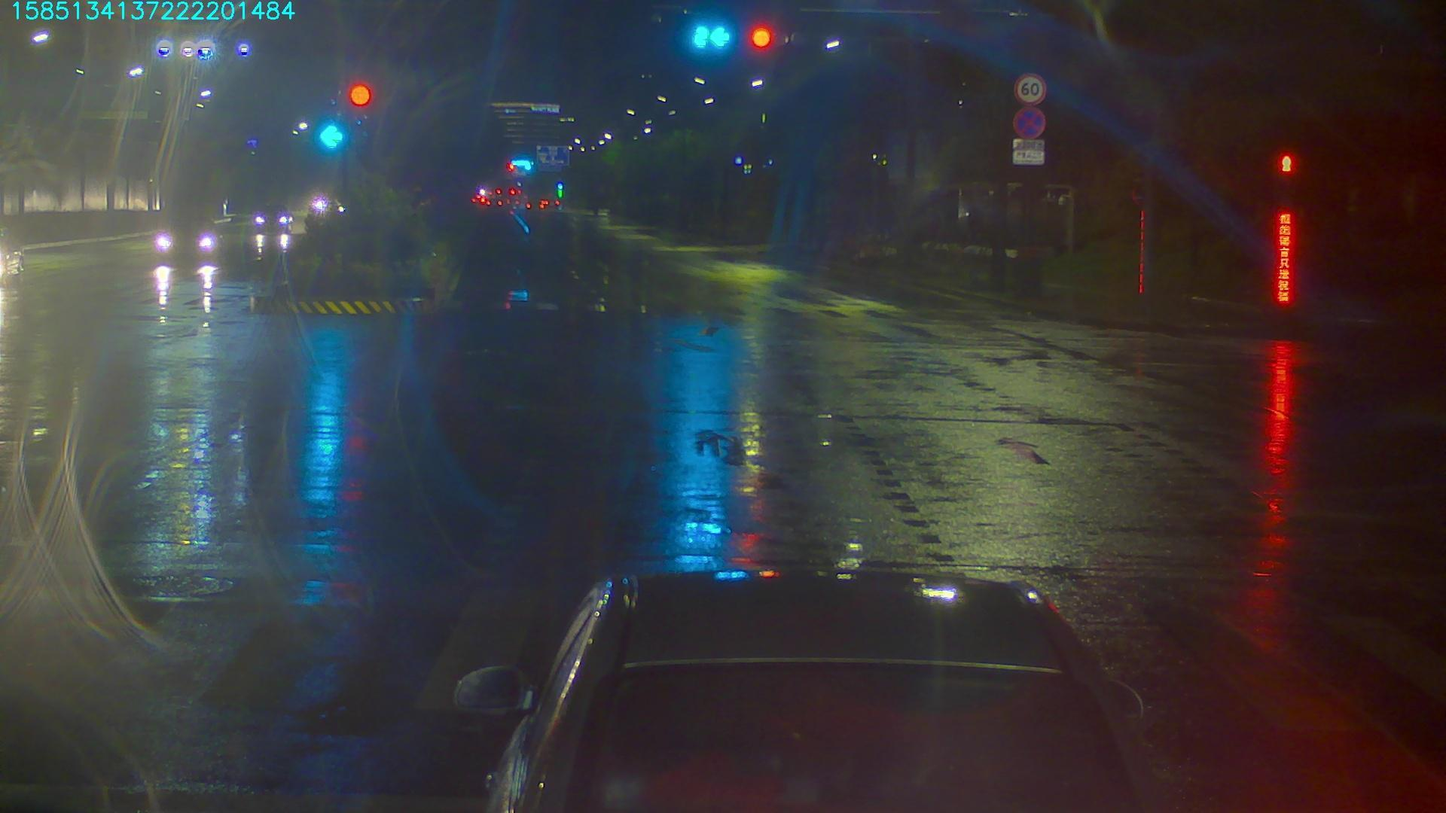green: (691, 18, 734, 52)
red: (749, 24, 771, 51)
